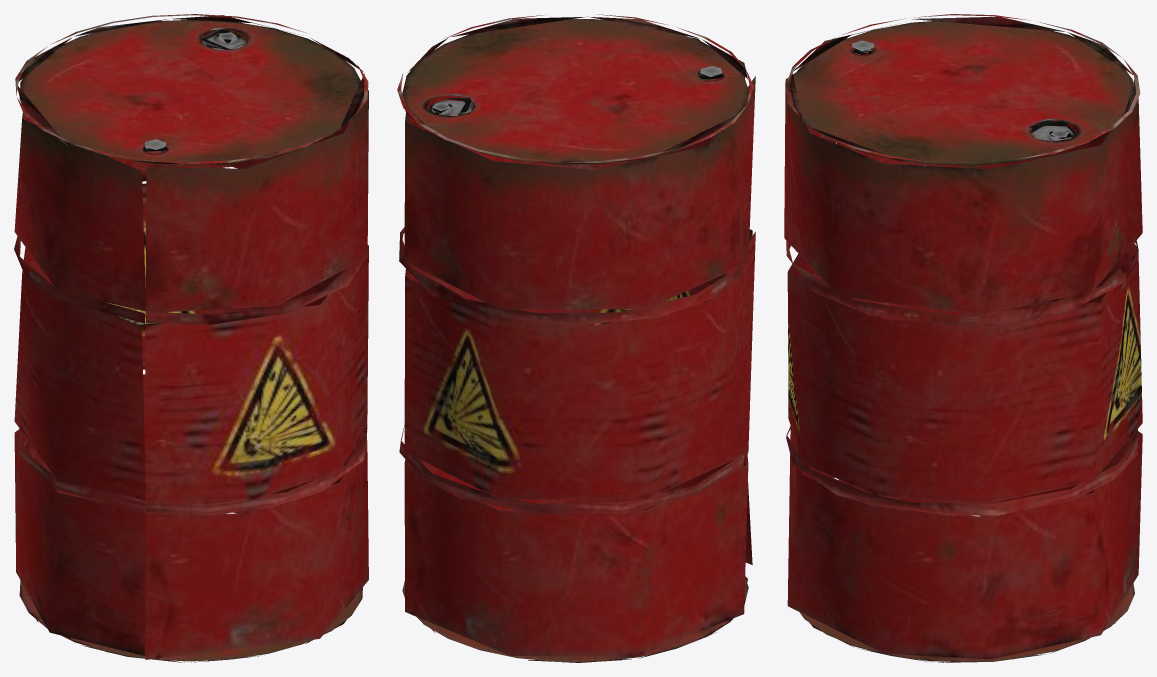
File: Barrel_01.glb
3 renders of one model, left to right at view 1: azimuth 30°, elevation 25°; view 2: azimuth 150°, elevation 25°; view 3: azimuth 270°, elevation 25°, orthographic.
Visible parts, largest first — view 1: Barrel_01; view 2: Barrel_01; view 3: Barrel_01.
Boxes of the visible parts, box(x1,y1,x2,y2) form: Barrel_01: box(14, 14, 368, 662); Barrel_01: box(397, 14, 755, 662); Barrel_01: box(784, 14, 1142, 662).
Bounding box in the file's own units: 0.5619 × 0.8776 × 0.5646.
1 material, 1 textured.
